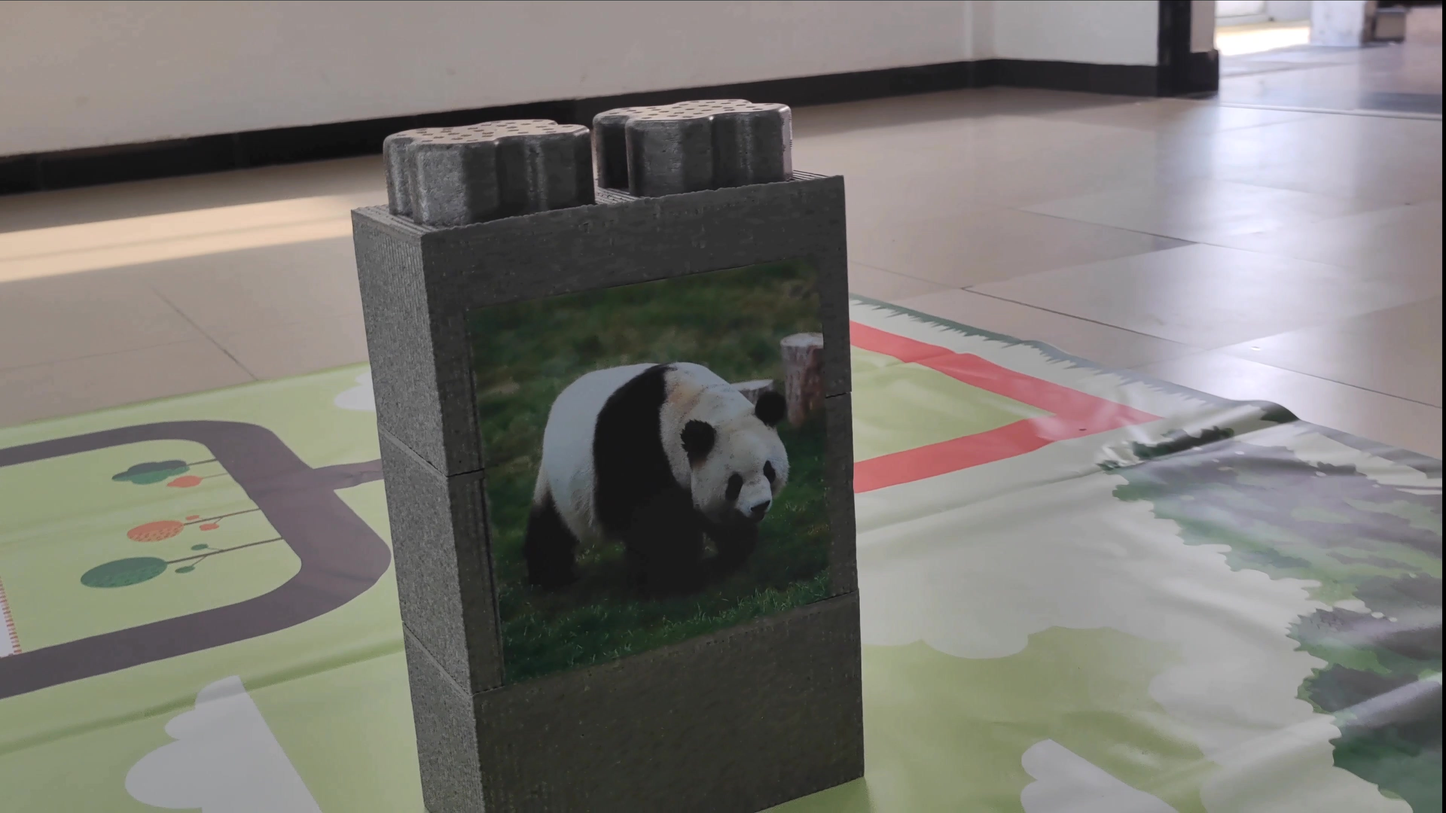panda: (509, 306, 801, 606)
